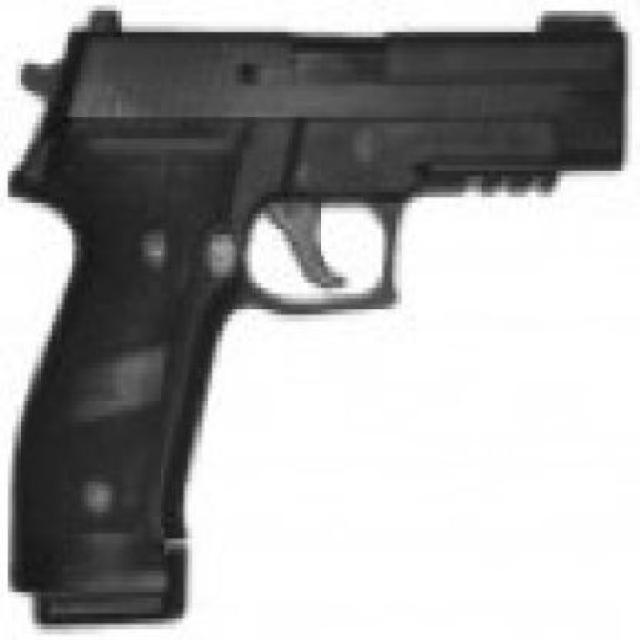gun: (16, 5, 629, 624)
